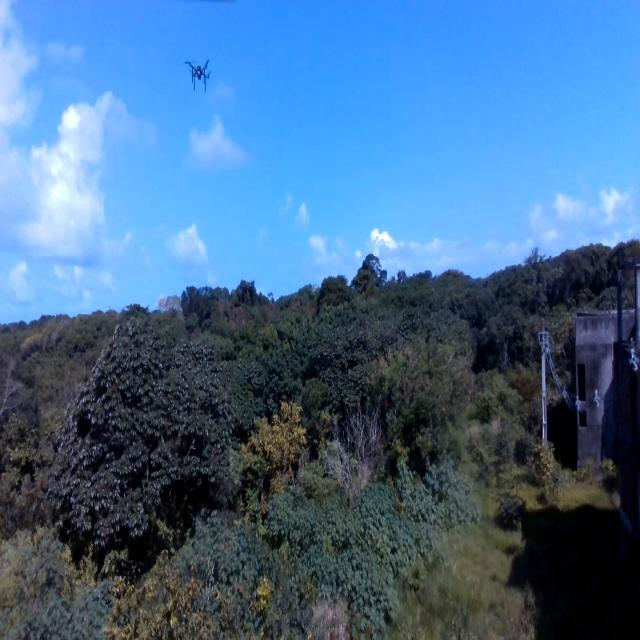-uav-: (182, 48, 216, 102)
